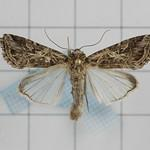Spodoptera litura: (1, 28, 150, 120)
